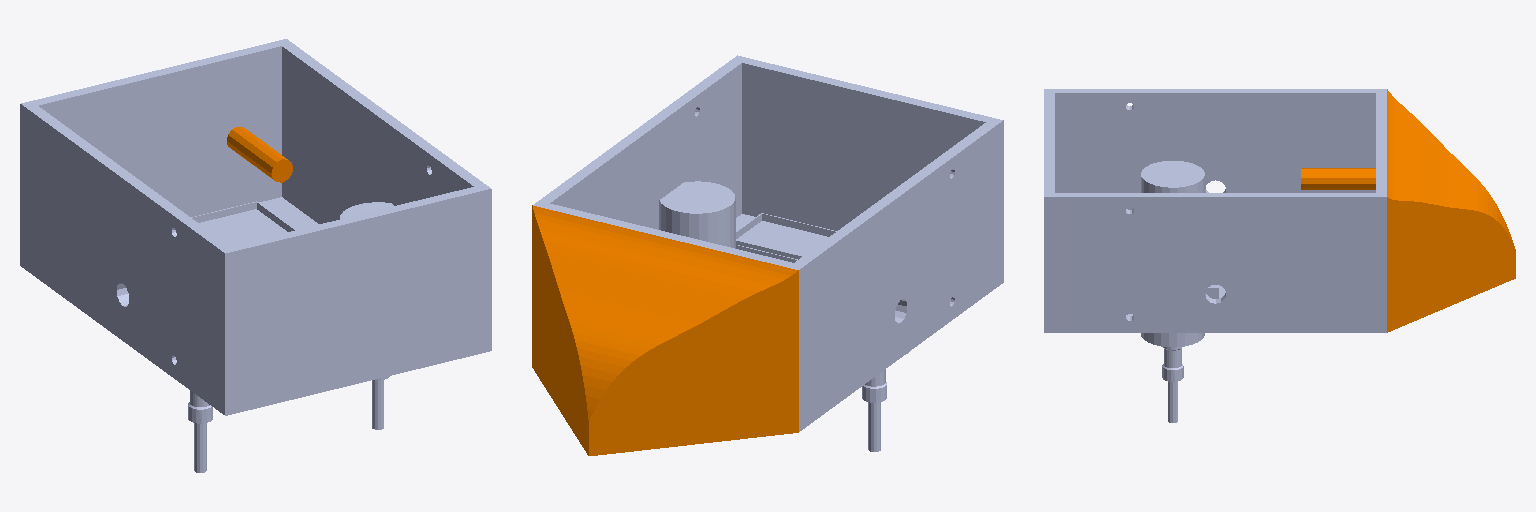
robot.urdf — robot_boat:
<robot name="robot_boat">
  
  <link name="caja">
    <inertial>
      <origin xyz="-0.00350655617226021 0.0057870557154398 0.100314646324909" rpy="0 0 0" />
      <mass value="0.315668074424316" />
      <inertia ixx="0.00106952247168509" ixy="-6.35663584540256E-08" ixz="4.48722793894617E-07" iyy="0.00147003359417461" iyz="1.732567854706E-06" izz="0.000700072373673693" />
    </inertial>
    <visual>
      <geometry>
        <mesh filename="package://robot_boat/meshes/caja.STL"/>
      </geometry>
      <material name="azul_claro">
        <color rgba="0.792156862745098 0.819607843137255 0.933333333333333 1"/>
      </material>
    </visual>
    <collision>
      <geometry>
        <mesh filename="package://robot_boat/meshes/caja.STL"/>
      </geometry>
    </collision>
  </link>

  <link name="punta">
    <inertial>
      <origin xyz="3.27284758360044E-06 -0.00433760804571402 0.0273160015482659" rpy="0 0 0" />
      <mass value="0.0716405181094412" />
      <inertia ixx="5.44743781091978E-05" ixy="1.86774753169867E-09" ixz="6.76801340593279E-09" iyy="9.58237376978415E-05" iyz="-6.17934926455551E-06" izz="0.000101029420324114" />
    </inertial>
    <visual>
      <geometry>
        <mesh filename="package://robot_boat/meshes/punta.STL"/>
      </geometry>
      <material name="naranja">
        <color rgba="1 0.549019607843137 0 1"/>
      </material>
    </visual>
    <collision>
      <geometry>
        <mesh filename="package://robot_boat/meshes/punta.STL"/>
      </geometry>
    </collision>
  </link>

  <joint name="punta" type="fixed">
    <origin xyz="-0.0034915 0.02 0.018168" rpy="1.5708 0 0" />
    <parent link="caja"/>
    <child link="punta"/>
  </joint>

  <link name="motor1">
    <inertial>
      <origin xyz="0.0248078639783107 0 0" rpy="0 0 0" />
      <mass value="0.0338272475621472" />
      <inertia ixx="3.59775886940148E-06" ixy="-8.70714672756417E-24" ixz="-9.65307491393635E-22" iyy="1.02720341448678E-05" iyz="0" izz="1.02720341448678E-05" />
    </inertial>
    <visual>
      <geometry>
        <mesh filename="package://robot_boat/meshes/motor1.STL"/>
      </geometry>
      <material name="gris_claro">
        <color rgba="0.796078431372549 0.823529411764706 0.937254901960784 1"/>
      </material>
    </visual>
    <collision>
      <geometry>
        <mesh filename="package://robot_boat/meshes/motor1.STL"/>
      </geometry>
    </collision>
  </link>

  <joint name="motor1" type="continuous">
    <origin xyz="-0.04 -0.12 0.02" rpy="0 1.5708 0" />
    <parent link="caja"/>
    <child link="motor1"/>
    <axis xyz="1 0 0"/>
    <limit effort="10.0" velocity="10.0"/>
    <dynamics damping="0.1" friction="0.05"/>
  </joint>

  <link name="motor2">
    <inertial>
      <origin xyz="0.0248078639783108 -6.93889390390723E-18 0" rpy="0 0 0" />
      <mass value="0.0338272475621472" />
      <inertia ixx="3.59775886940148E-06" ixy="3.03672443546408E-22" ixz="-1.21326837735656E-21" iyy="1.02720341448678E-05" iyz="0" izz="1.02720341448678E-05" />
    </inertial>
    <visual>
      <geometry>
        <mesh filename="package://robot_boat/meshes/motor2.STL"/>
      </geometry>
      <material name="gris_claro">
        <color rgba="0.796078431372549 0.823529411764706 0.937254901960784 1"/>
      </material>
    </visual>
    <collision>
      <geometry>
        <mesh filename="package://robot_boat/meshes/motor2.STL"/>
      </geometry>
    </collision>
  </link>

  <joint name="motor2" type="continuous">
    <origin xyz="0.04 -0.12 0.02" rpy="0 1.5708 0" />
    <parent link="caja"/>
    <child link="motor2"/>
    <axis xyz="1 0 0"/>
    <limit effort="10.0" velocity="10.0"/>
    <dynamics damping="0.1" friction="0.05"/>
  </joint>

</robot>

--- Render facts (derived) ---
3 views of the same robot in one strip: view 1: azimuth 30°, elevation 25°; view 2: azimuth 150°, elevation 25°; view 3: azimuth 270°, elevation 25° (orthographic).
Model robot_boat with 4 links and 3 joints (2 continuous, 1 fixed), rooted at caja, posed all joints at 0.
Links seen in each view (by area): view 1: caja, punta, motor1, motor2; view 2: caja, punta, motor2, motor1; view 3: caja, punta, motor1, motor2.
Link boxes in pixels (bbox=[...]): caja: bbox=[20, 39, 491, 415]; punta: bbox=[227, 127, 292, 182]; motor1: bbox=[188, 391, 212, 472]; motor2: bbox=[340, 202, 393, 429]; caja: bbox=[533, 55, 1003, 431]; punta: bbox=[532, 205, 798, 455]; motor2: bbox=[659, 181, 735, 248]; motor1: bbox=[862, 310, 908, 451]; caja: bbox=[1044, 89, 1386, 332]; punta: bbox=[1301, 89, 1515, 332]; motor1: bbox=[1141, 161, 1204, 192]; motor2: bbox=[1141, 333, 1204, 422].
Size in the robot's own frame: 0.12 by 0.22 by 0.1232 metres.
4 mesh visuals loaded from 4 distinct referenced files (4 binary STL).
